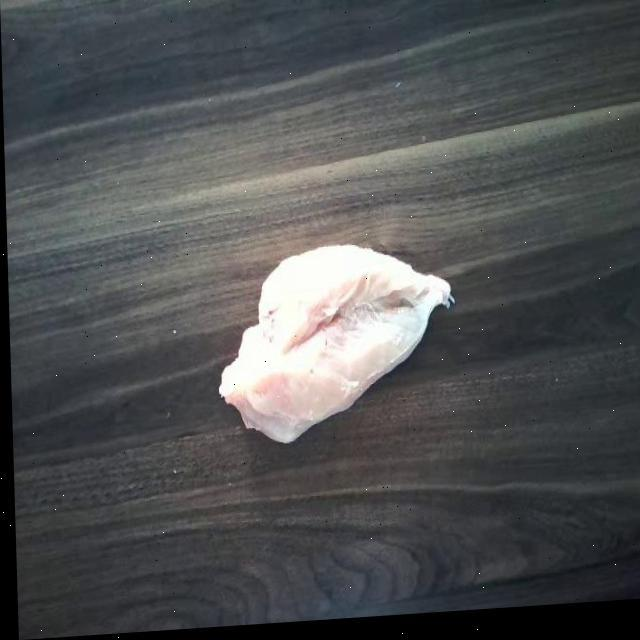breast: (209, 242, 447, 449)
